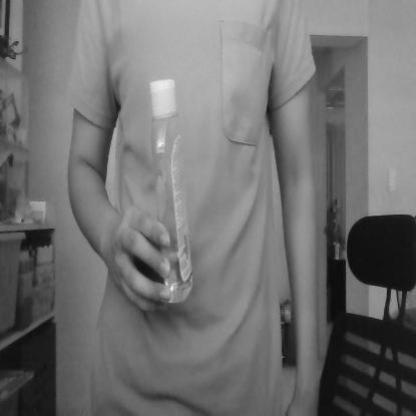Plastic Bottle: (136, 72, 197, 306)
